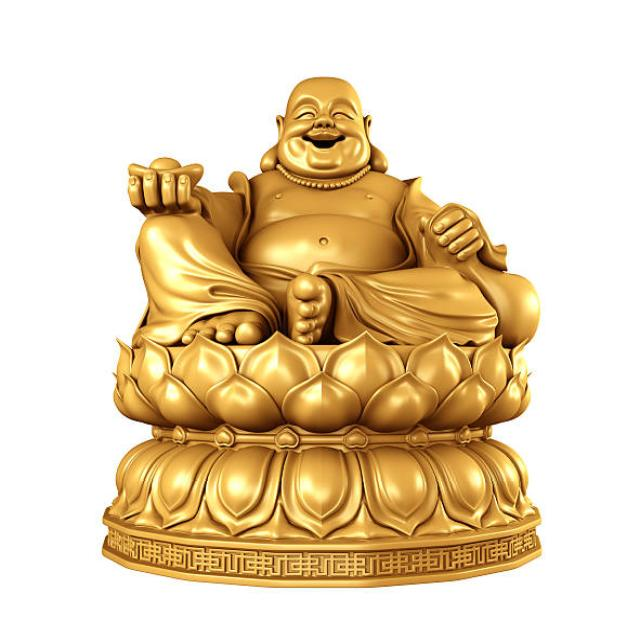Smiling Buddha: (125, 68, 527, 340)
